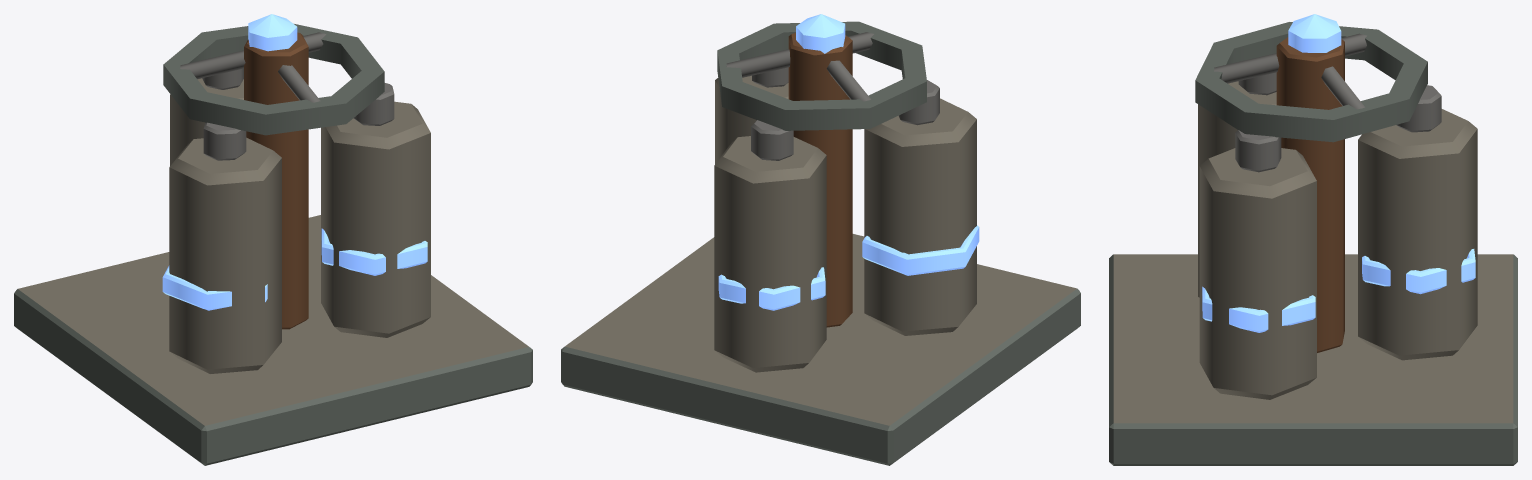
File: R4X_ChargeRegenerator_LOD1.fbx
The picture shows the model from 3 angles, left to right: view 1: azimuth 30°, elevation 25°; view 2: azimuth 150°, elevation 25°; view 3: azimuth 270°, elevation 25°; orthographic projection. The views are drawn at different scales.
Visible parts, largest first — view 1: R4X_ChargeRegenerator_LOD1; view 2: R4X_ChargeRegenerator_LOD1; view 3: R4X_ChargeRegenerator_LOD1.
Part boxes in pixels (bbox=[...]): R4X_ChargeRegenerator_LOD1: bbox=[14, 14, 532, 465]; R4X_ChargeRegenerator_LOD1: bbox=[561, 14, 1080, 465]; R4X_ChargeRegenerator_LOD1: bbox=[1109, 14, 1517, 465].
Bounding box in the file's own units: 0.52 × 0.515 × 0.52.
